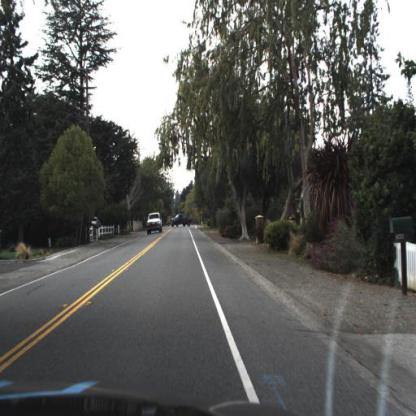car: (144, 209, 165, 237), (168, 210, 196, 231)
